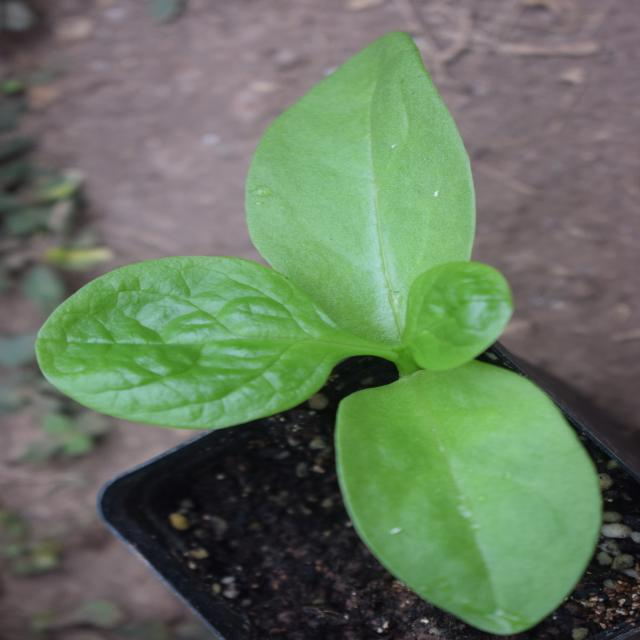Ceylon spinach: (56, 44, 605, 605)
